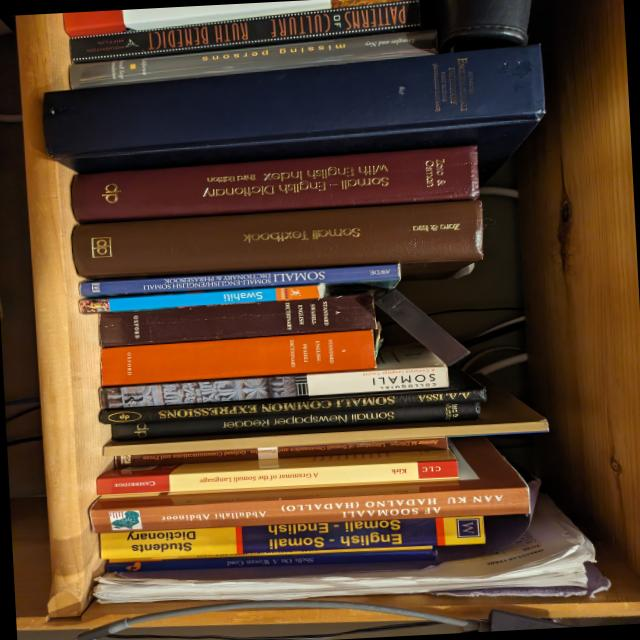book: (39, 44, 548, 205), (86, 434, 529, 536), (70, 200, 485, 298), (69, 145, 480, 224), (97, 366, 486, 428), (68, 0, 422, 67), (97, 343, 448, 410), (66, 29, 438, 91), (98, 513, 484, 563), (95, 448, 457, 498), (98, 329, 375, 387), (98, 293, 376, 349), (111, 400, 481, 442), (78, 263, 400, 305), (106, 546, 436, 574), (77, 283, 326, 315), (275, 437, 447, 459), (114, 448, 261, 468)
